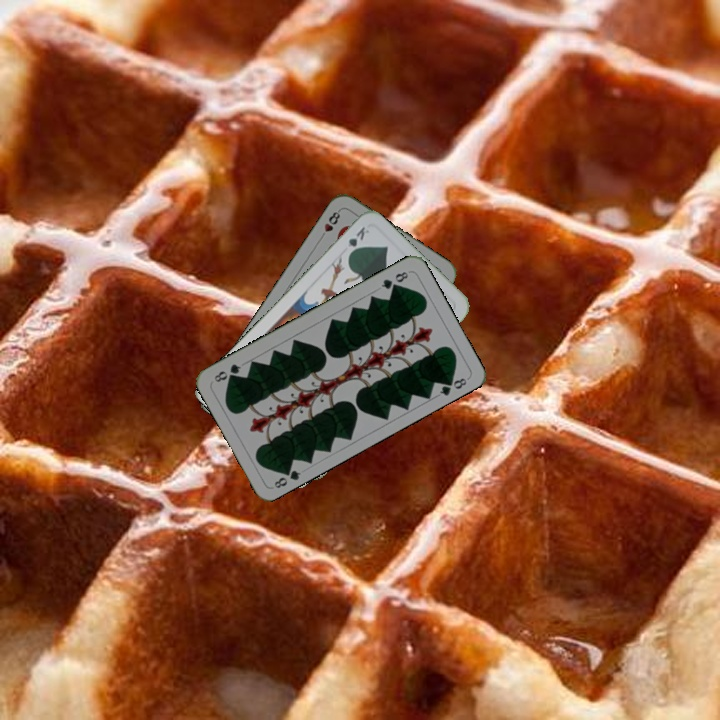G8: (270, 463, 304, 491), (377, 267, 411, 292)
GK: (344, 223, 372, 258)
H8: (316, 206, 343, 242)
